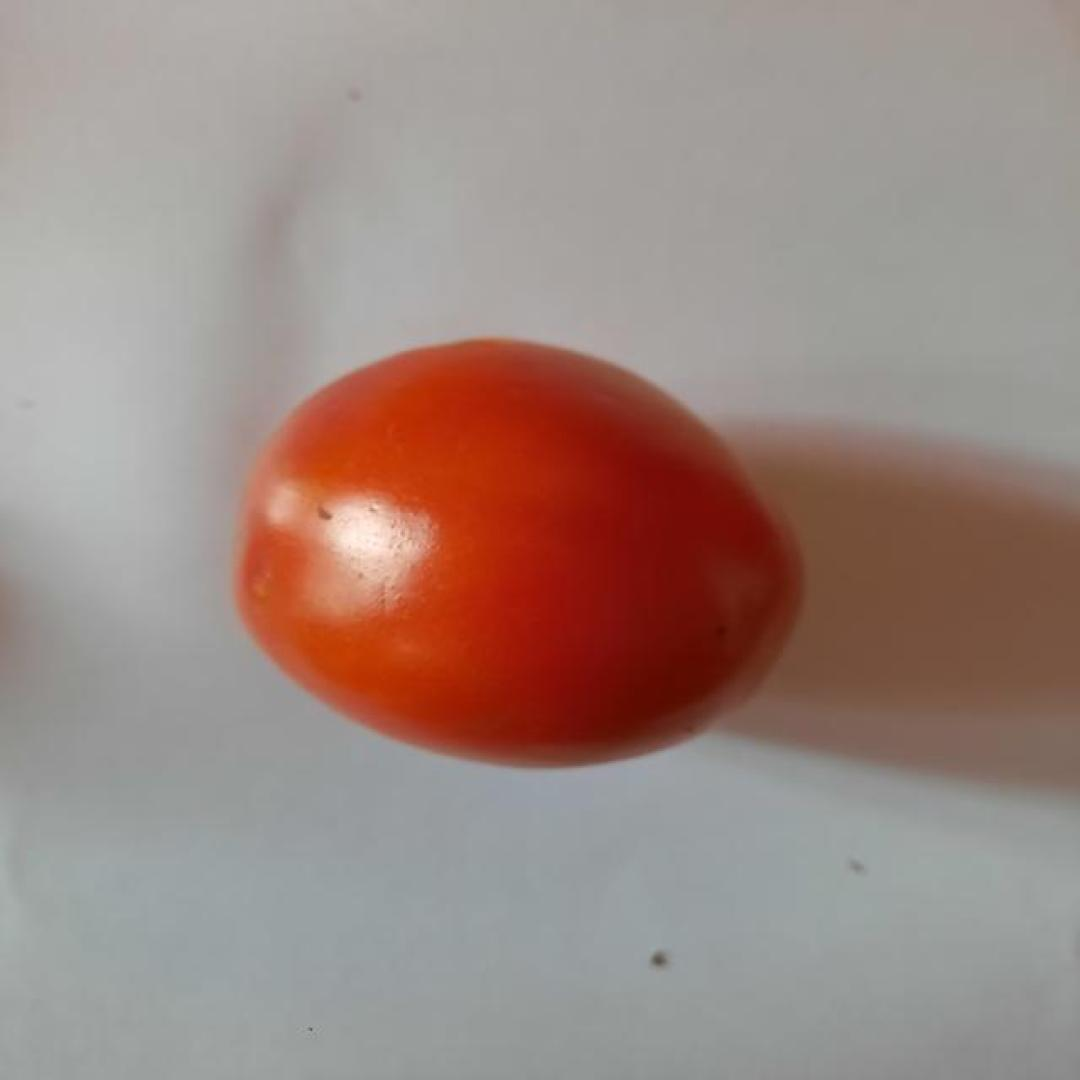matang: (230, 336, 808, 766)
